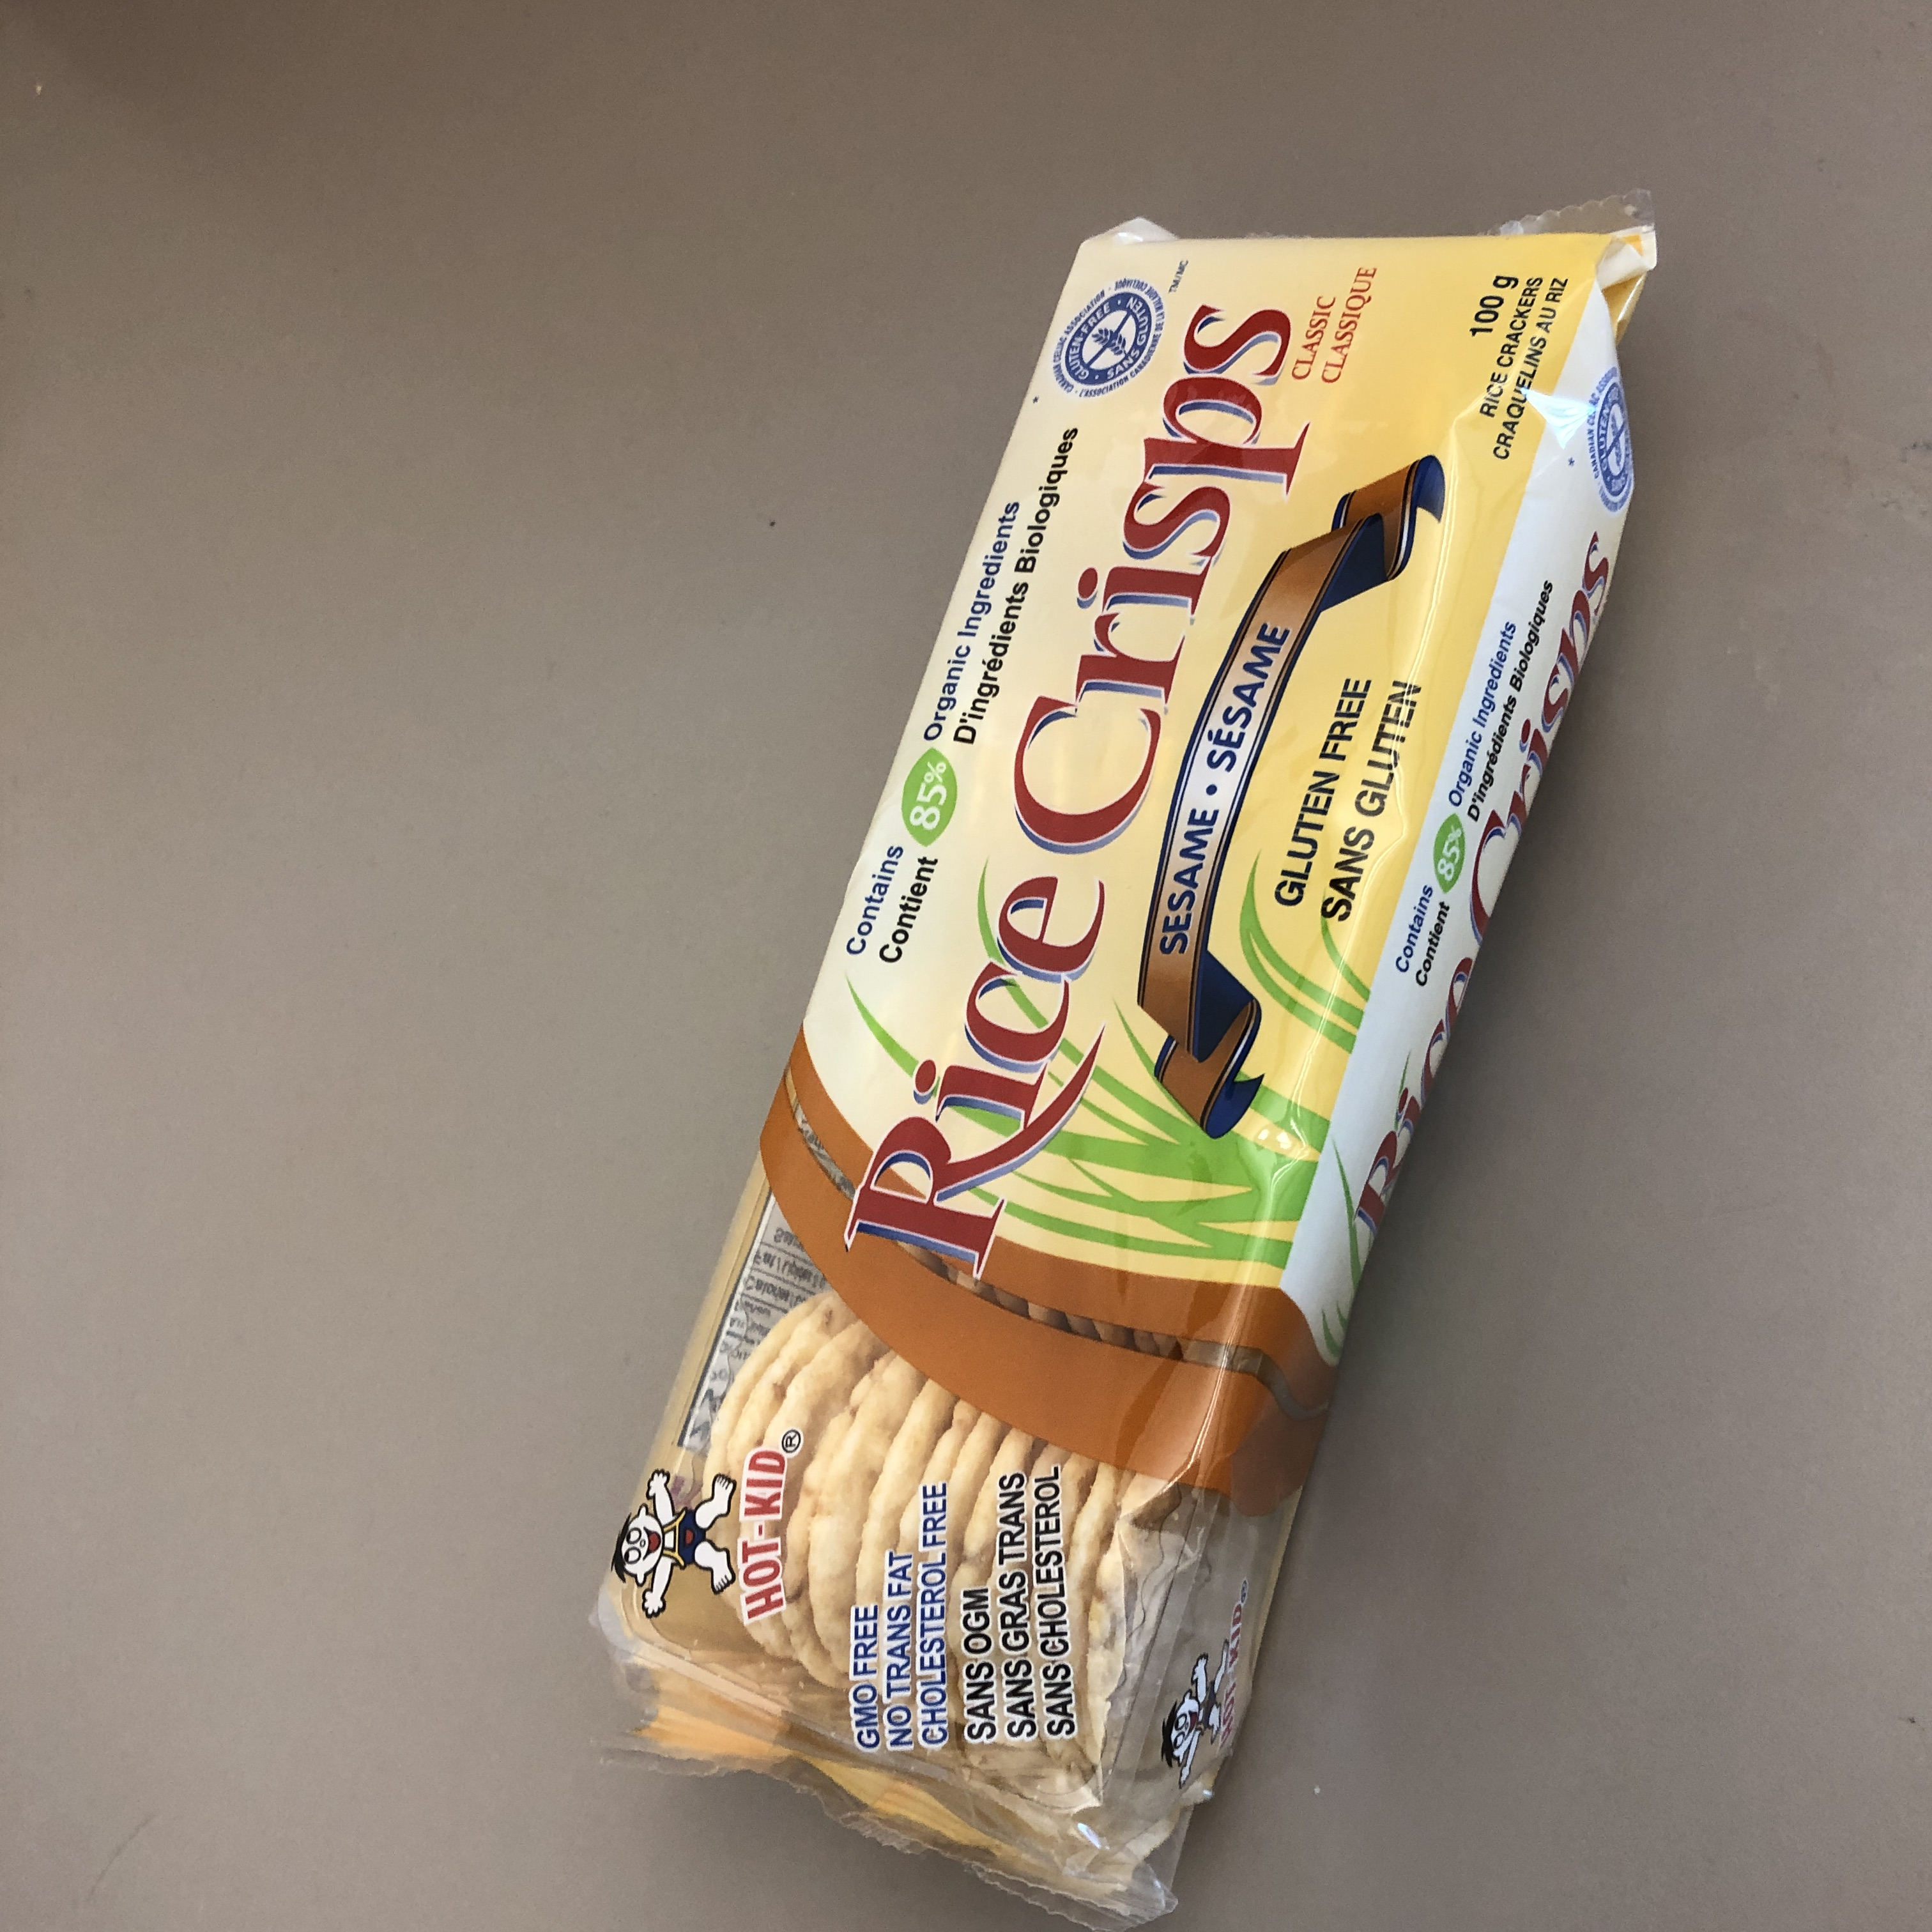hot_kid_rice_crisps_sesame: (275, 296, 1835, 1080)
